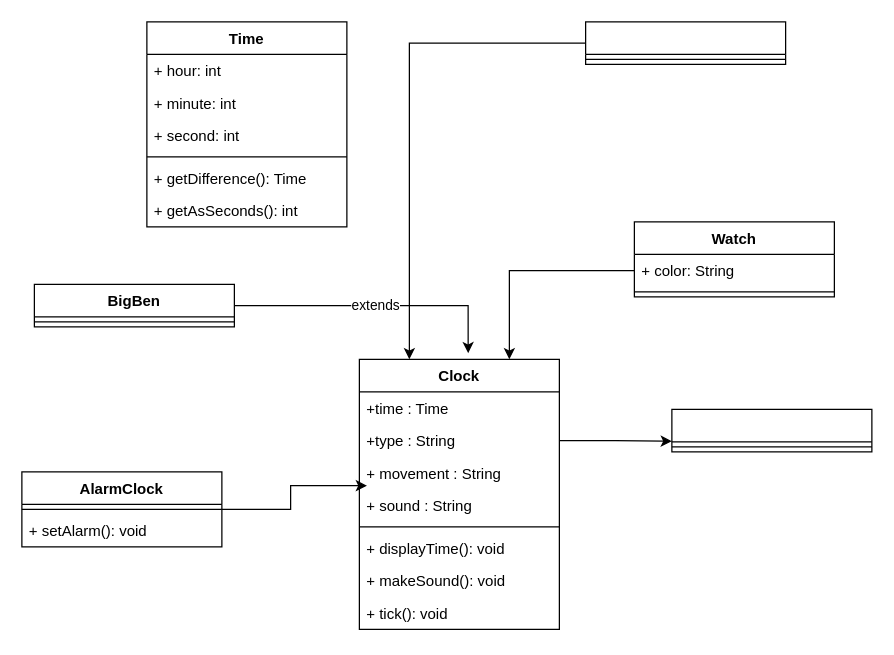
The diagram is 894 pixels wide and 655 high, and some of its shapes have lost their labels. The box of each missing label's shape, as (x1, y1, x2, y2) in pixels:
ClockShop: (671, 408, 872, 452)
WallClock: (584, 21, 786, 64)
